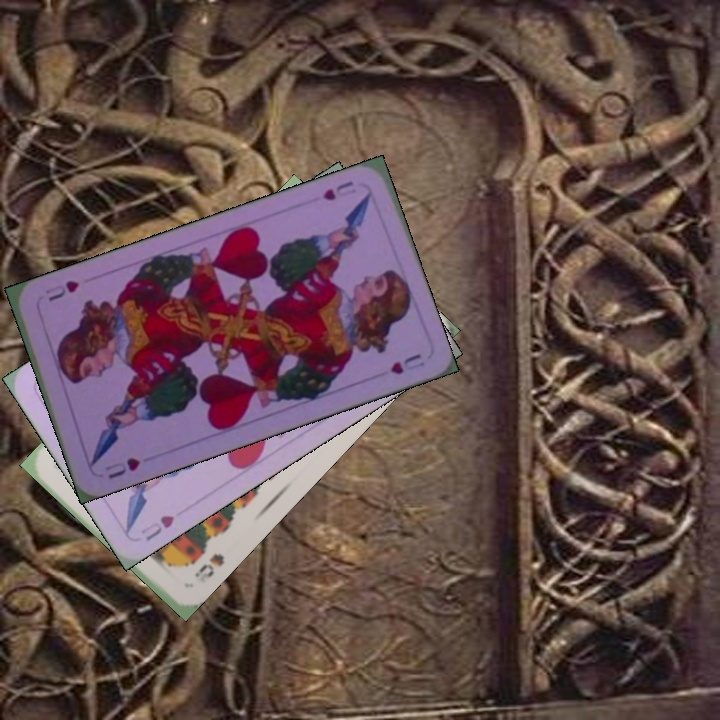HU: (136, 511, 177, 544), (101, 453, 143, 482), (318, 177, 359, 204)
S8: (190, 549, 227, 586)
